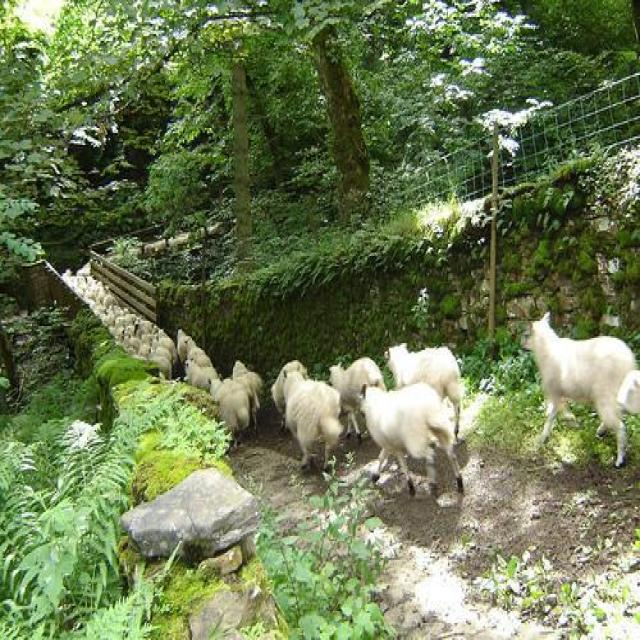Sheep: (20, 225, 638, 623), (518, 311, 639, 469), (361, 382, 472, 507), (385, 343, 462, 445), (277, 365, 343, 473), (327, 357, 389, 447)
